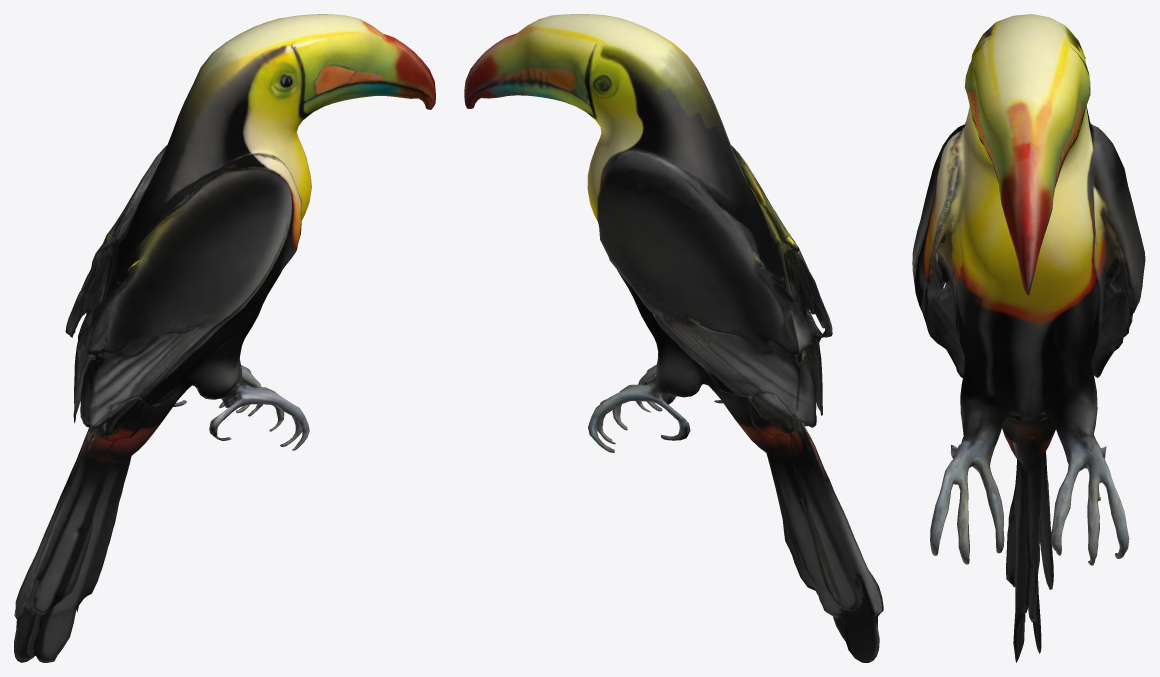
Rendered from Colorful_Toucan_0202065337_texture.obj.
3 renders of one model, left to right at view 1: azimuth 30°, elevation 25°; view 2: azimuth 150°, elevation 25°; view 3: azimuth 270°, elevation 25°, orthographic. The views are drawn at different scales.
Parts seen in each view (by area): view 1: Colorful_Toucan_0202065337_texture; view 2: Colorful_Toucan_0202065337_texture; view 3: Colorful_Toucan_0202065337_texture.
Boxes of the visible parts, left/top/right/bottom form: Colorful_Toucan_0202065337_texture: left=14, top=14, right=435, bottom=662; Colorful_Toucan_0202065337_texture: left=464, top=14, right=883, bottom=662; Colorful_Toucan_0202065337_texture: left=912, top=14, right=1145, bottom=662.
Bounding box in the file's own units: 1.51 × 1.99 × 0.532.
1 material, 1 textured.
